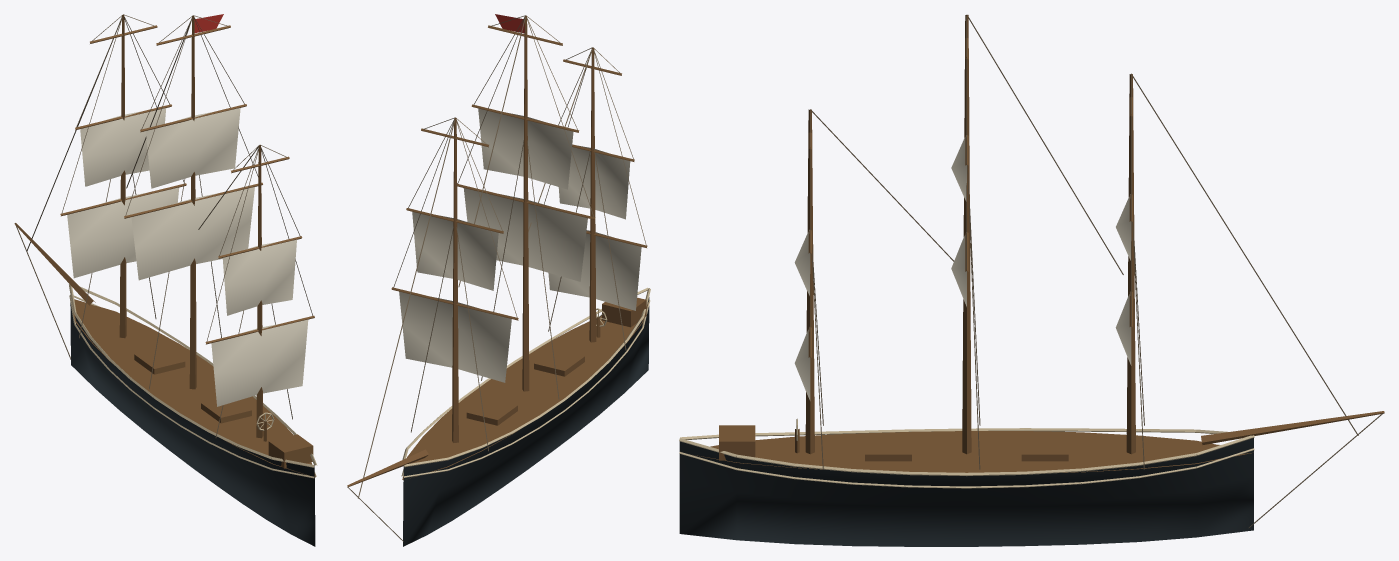
File: clipper-low.glb
The picture shows the model from 3 angles, left to right: view 1: azimuth 30°, elevation 25°; view 2: azimuth 150°, elevation 25°; view 3: azimuth 270°, elevation 25°; orthographic projection. The views are drawn at different scales.
Parts seen in each view (by area): view 1: tarred-hull, timber-spars, timber-deck, canvas-1-2, canvas-2-2, canvas-1-1, canvas-0-2, canvas-2-1, canvas-0-1, rope-rigging, painted-wale, wind-flag; view 2: tarred-hull, timber-spars, timber-deck, canvas-0-2, canvas-1-2, canvas-1-1, rope-rigging, canvas-0-1, canvas-2-2, canvas-2-1, painted-wale, wind-flag; view 3: tarred-hull, timber-deck, timber-spars, painted-wale, rope-rigging.
Boxes of the visible parts, x1=… form: tarred-hull: x1=70, y1=303, x2=315, y2=546; timber-spars: x1=14, y1=15, x2=314, y2=468; timber-deck: x1=73, y1=299, x2=315, y2=477; canvas-1-2: x1=131, y1=187, x2=254, y2=280; canvas-2-2: x1=211, y1=319, x2=308, y2=406; canvas-1-1: x1=146, y1=108, x2=240, y2=188; canvas-0-2: x1=67, y1=187, x2=179, y2=278; canvas-2-1: x1=222, y1=239, x2=296, y2=315; canvas-0-1: x1=80, y1=108, x2=166, y2=186; rope-rigging: x1=16, y1=14, x2=312, y2=437; painted-wale: x1=69, y1=284, x2=317, y2=478; wind-flag: x1=194, y1=14, x2=223, y2=32; tarred-hull: x1=403, y1=297, x2=649, y2=546; timber-spars: x1=347, y1=16, x2=647, y2=487; timber-deck: x1=402, y1=302, x2=648, y2=480; canvas-0-2: x1=399, y1=291, x2=511, y2=382; canvas-1-2: x1=463, y1=188, x2=587, y2=281; canvas-1-1: x1=478, y1=108, x2=573, y2=189; rope-rigging: x1=347, y1=15, x2=646, y2=541; canvas-0-1: x1=412, y1=212, x2=498, y2=290; canvas-2-2: x1=548, y1=230, x2=641, y2=310; canvas-2-1: x1=558, y1=145, x2=630, y2=219; painted-wale: x1=401, y1=287, x2=650, y2=477; wind-flag: x1=495, y1=14, x2=524, y2=33; tarred-hull: x1=679, y1=438, x2=1253, y2=546; timber-deck: x1=693, y1=431, x2=1253, y2=472; timber-spars: x1=719, y1=15, x2=1384, y2=461; painted-wale: x1=679, y1=418, x2=1254, y2=488; rope-rigging: x1=810, y1=14, x2=1383, y2=527.
Bounding box in the file's own units: 7.21 × 22.51 × 27.04.
